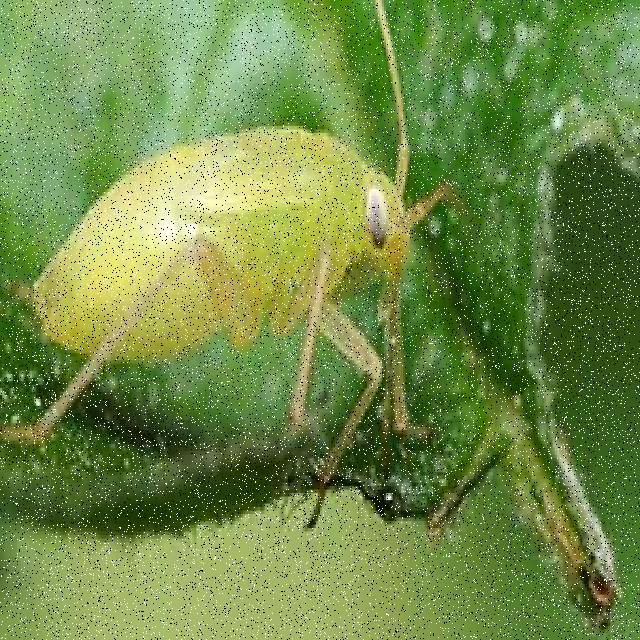Aphids: (14, 41, 456, 475)
